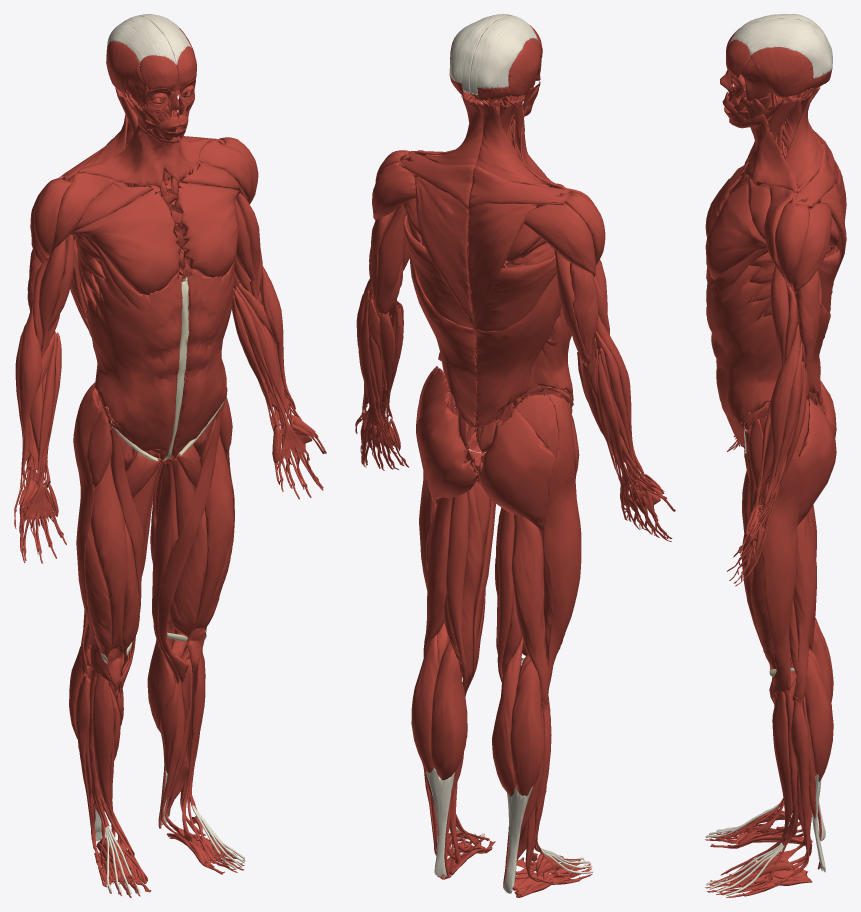
Rendered from muscles.glb.
3 views of the same model, side by side, from view 1: azimuth 30°, elevation 25°; view 2: azimuth 150°, elevation 25°; view 3: azimuth 270°, elevation 25° (orthographic). The views are drawn at different scales.
Visible parts, largest first — view 1: external-abdominal-oblique-muscle-right, sternocostal-head-of-pectoralis-major-muscle-right, external-abdominal-oblique-muscle-left, sternocostal-head-of-pectoralis-major-muscle-left, rectus-femoris-muscle-right, rectus-femoris-muscle-left, sartorius-muscle-left, iliotibial-tract-right, platysma-right, vastus-medialis-muscle-left, gracilis-muscle-left, tibialis-anterior-muscle-right (+45 smaller); view 2: latissimus-dorsi-muscle-right, iliotibial-tract-right, latissimus-dorsi-muscle-left, gluteus-maximus-muscle-right, descending-part-of-trapezius-muscle-left, long-head-of-biceps-femoris-right, descending-part-of-trapezius-muscle-right, gluteus-maximus-muscle-left, medial-head-of-gastrocnemius-left, lateral-head-of-gastrocnemius-right, epicranial-aponeurosis-right, scapular-spinal-part-of-deltoid-muscle-right (+34 smaller); view 3: external-abdominal-oblique-muscle-left, iliotibial-tract-left, sternocostal-head-of-pectoralis-major-muscle-left, epicranial-aponeurosis-left, long-head-of-biceps-femoris-left, gluteus-maximus-muscle-left, temporoparietalis-muscle-left, lateral-head-of-gastrocnemius-left, platysma-left, brachioradialis-muscle-left, acromial-part-of-deltoid-muscle-left, scapular-spinal-part-of-deltoid-muscle-left (+42 smaller).
Part boxes in pixels (left/top/right/bottom): external-abdominal-oblique-muscle-right: left=86, top=260, right=182, bottom=451; sternocostal-head-of-pectoralis-major-muscle-right: left=69, top=190, right=180, bottom=294; external-abdominal-oblique-muscle-left: left=176, top=265, right=234, bottom=448; sternocostal-head-of-pectoralis-major-muscle-left: left=178, top=183, right=239, bottom=277; rectus-femoris-muscle-right: left=90, top=444, right=127, bottom=691; rectus-femoris-muscle-left: left=186, top=419, right=233, bottom=672; sartorius-muscle-left: left=158, top=399, right=225, bottom=682; iliotibial-tract-right: left=73, top=382, right=110, bottom=681; platysma-right: left=78, top=118, right=176, bottom=187; vastus-medialis-muscle-left: left=169, top=510, right=207, bottom=656; gracilis-muscle-left: left=152, top=459, right=179, bottom=684; tibialis-anterior-muscle-right: left=92, top=673, right=134, bottom=855; latissimus-dorsi-muscle-right: left=475, top=255, right=561, bottom=428; iliotibial-tract-right: left=542, top=394, right=581, bottom=688; latissimus-dorsi-muscle-left: left=403, top=215, right=476, bottom=427; gluteus-maximus-muscle-right: left=478, top=406, right=555, bottom=531; descending-part-of-trapezius-muscle-left: left=414, top=174, right=475, bottom=330; long-head-of-biceps-femoris-right: left=511, top=514, right=549, bottom=703; descending-part-of-trapezius-muscle-right: left=468, top=203, right=544, bottom=330; gluteus-maximus-muscle-left: left=416, top=391, right=478, bottom=505; medial-head-of-gastrocnemius-left: left=431, top=640, right=467, bottom=780; lateral-head-of-gastrocnemius-right: left=510, top=659, right=544, bottom=796; epicranial-aponeurosis-right: left=469, top=15, right=538, bottom=94; scapular-spinal-part-of-deltoid-muscle-right: left=524, top=202, right=595, bottom=276; external-abdominal-oblique-muscle-left: left=706, top=265, right=781, bottom=445; iliotibial-tract-left: left=759, top=415, right=804, bottom=695; sternocostal-head-of-pectoralis-major-muscle-left: left=705, top=181, right=766, bottom=280; epicranial-aponeurosis-left: left=730, top=18, right=832, bottom=78; long-head-of-biceps-femoris-left: left=793, top=511, right=816, bottom=700; gluteus-maximus-muscle-left: left=797, top=396, right=836, bottom=525; temporoparietalis-muscle-left: left=750, top=47, right=813, bottom=97; lateral-head-of-gastrocnemius-left: left=805, top=654, right=833, bottom=781; platysma-left: left=729, top=114, right=797, bottom=192; brachioradialis-muscle-left: left=763, top=321, right=800, bottom=506; acromial-part-of-deltoid-muscle-left: left=775, top=202, right=809, bottom=285; scapular-spinal-part-of-deltoid-muscle-left: left=791, top=203, right=831, bottom=294.
Size of the model in its own units: 0.6595 by 1.7 by 0.2586.
